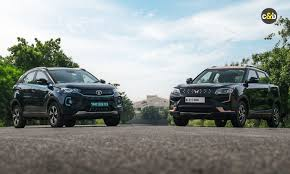XUV 400: (168, 64, 282, 129), (9, 64, 122, 129)
